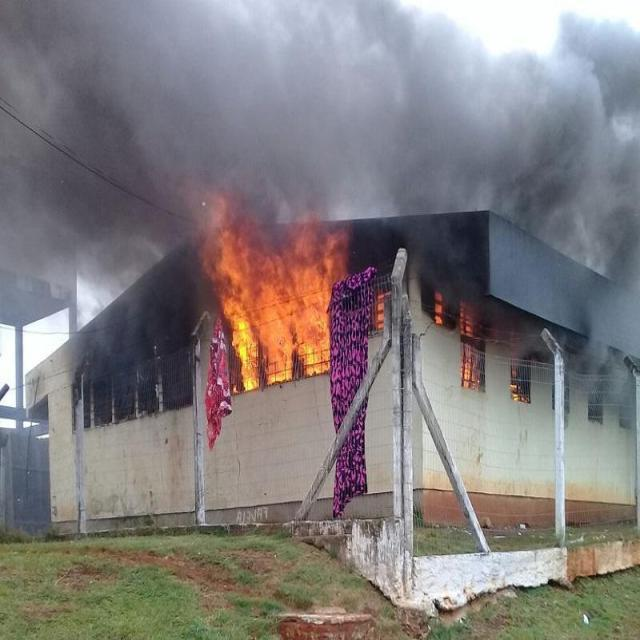Fire: (195, 188, 346, 401)
